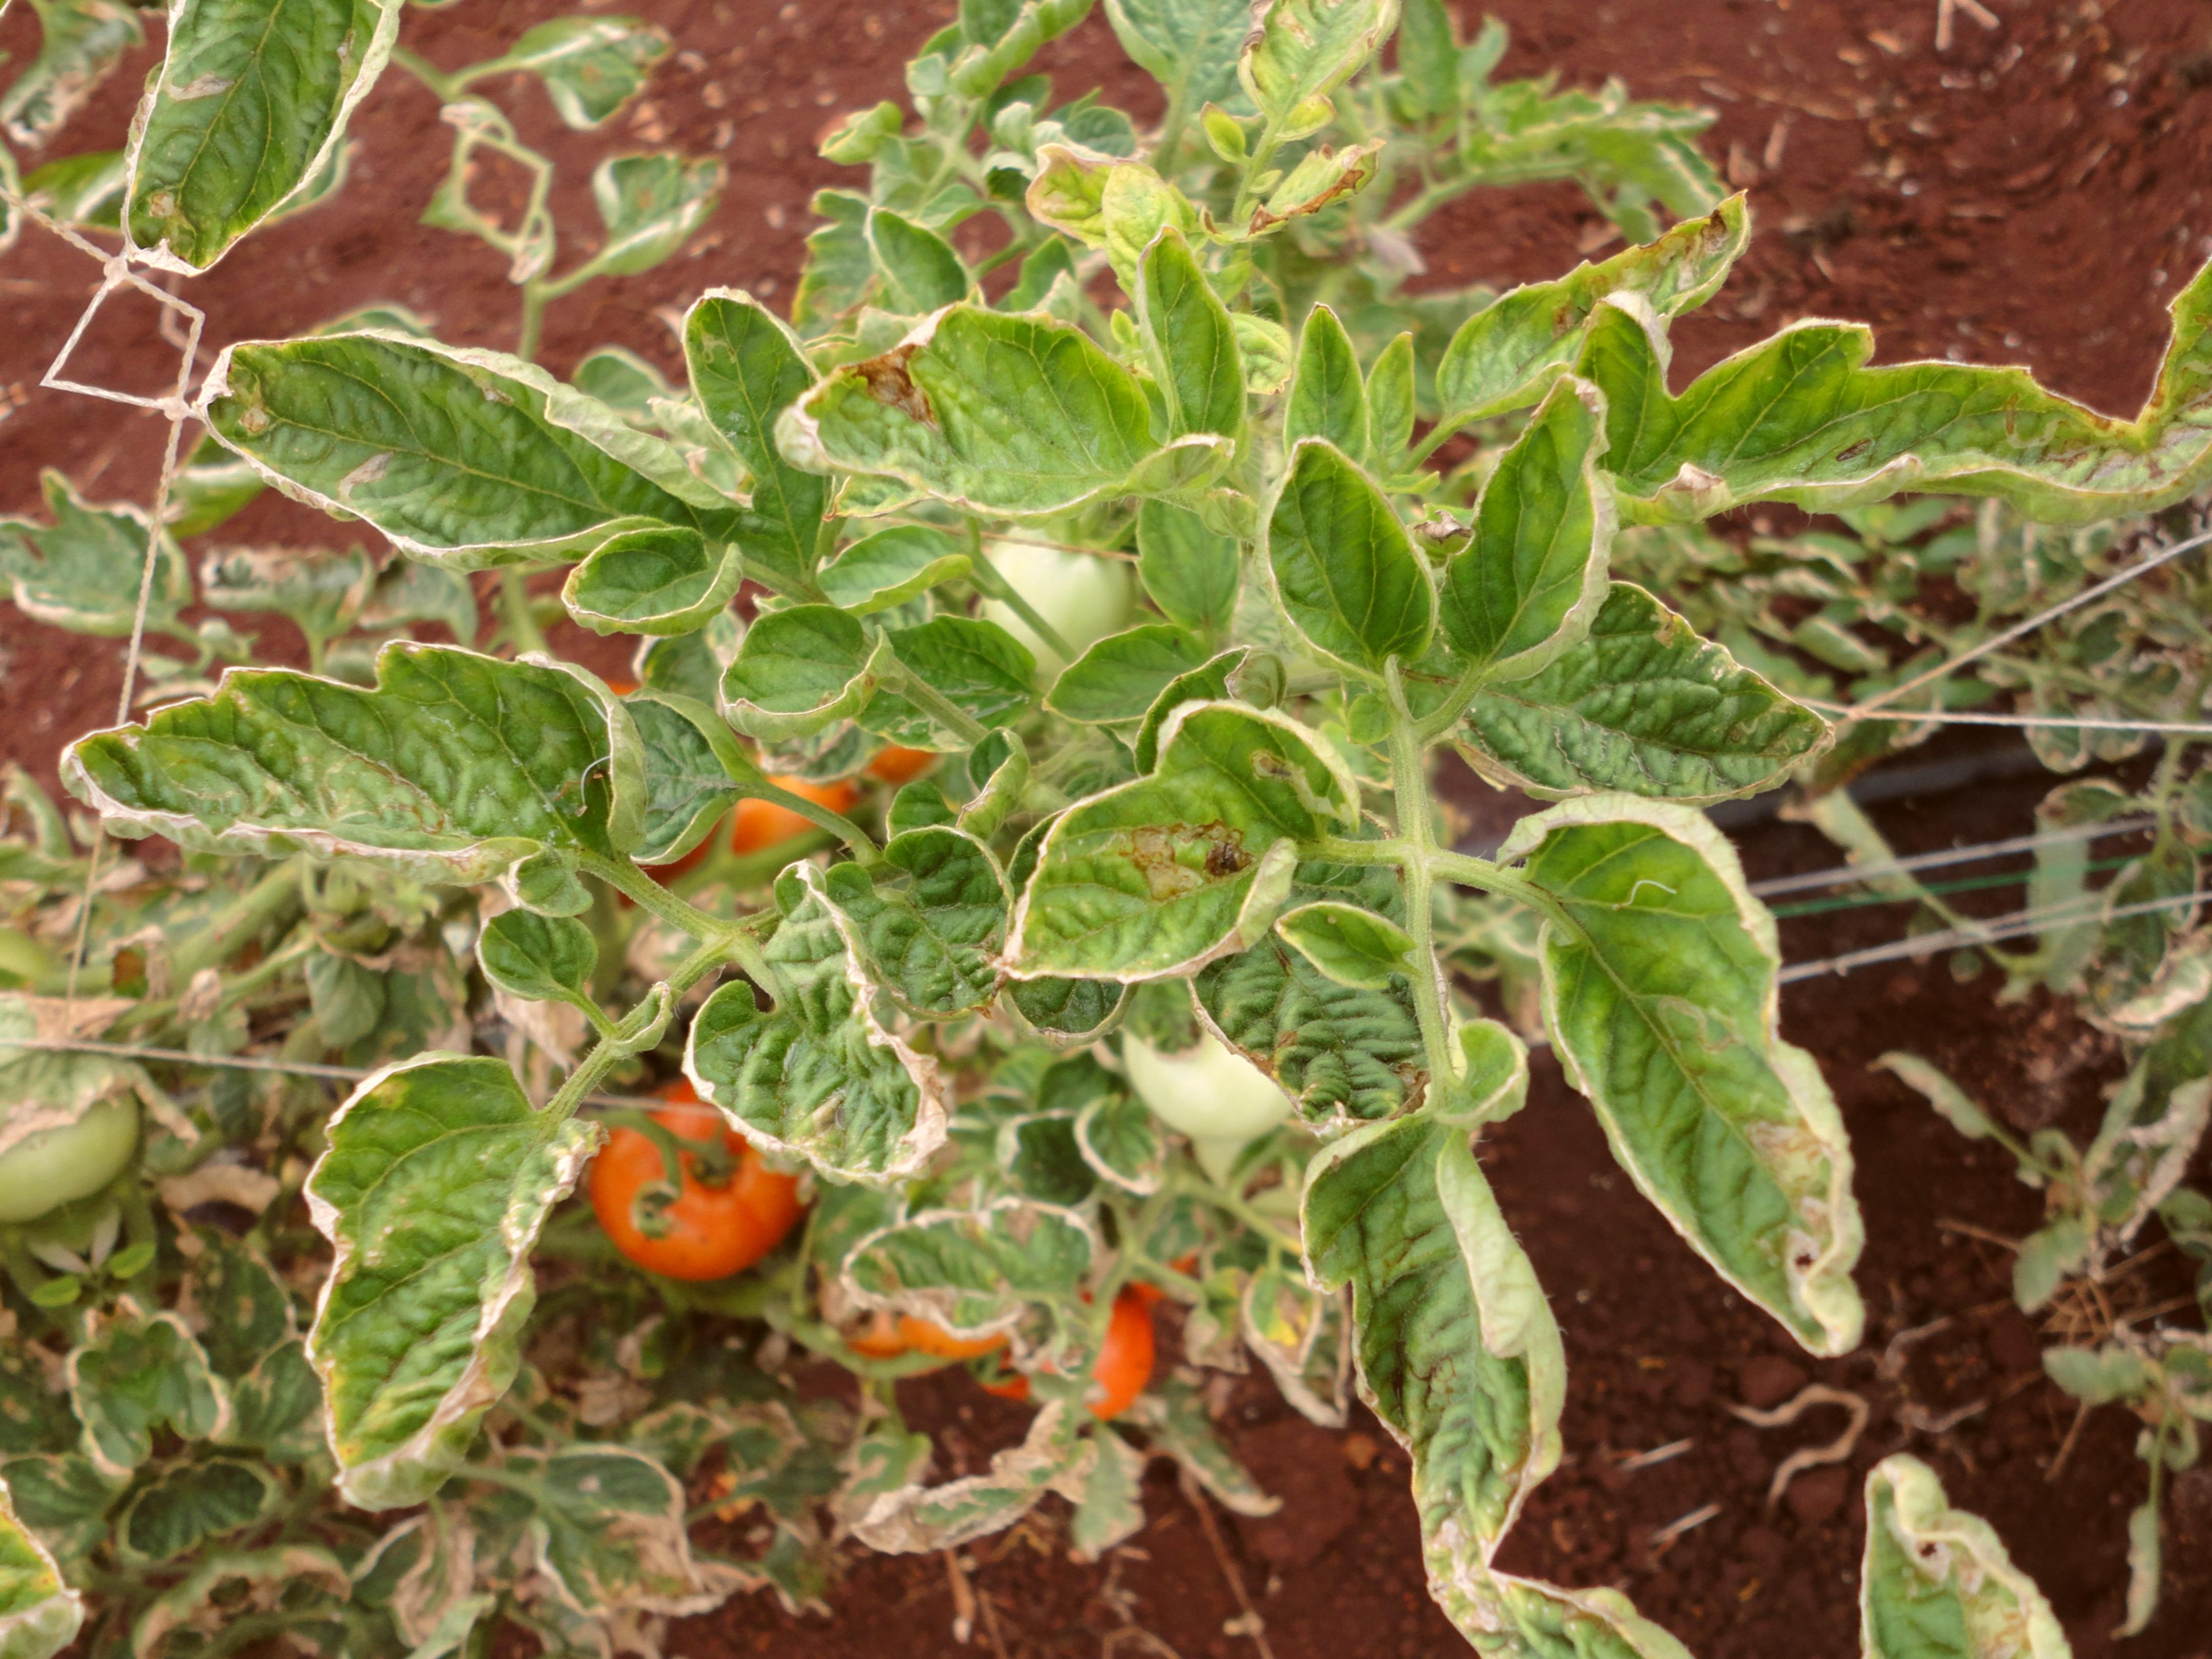Tomato leaf yellow virus: (152, 132, 916, 828), (1515, 103, 2156, 735), (0, 509, 697, 1037), (1160, 1009, 1730, 1626), (1451, 718, 1959, 1401), (725, 159, 1341, 685), (160, 990, 712, 1575), (894, 592, 1402, 1044), (601, 835, 1029, 1363), (1367, 322, 1752, 685), (1202, 371, 1527, 714)
